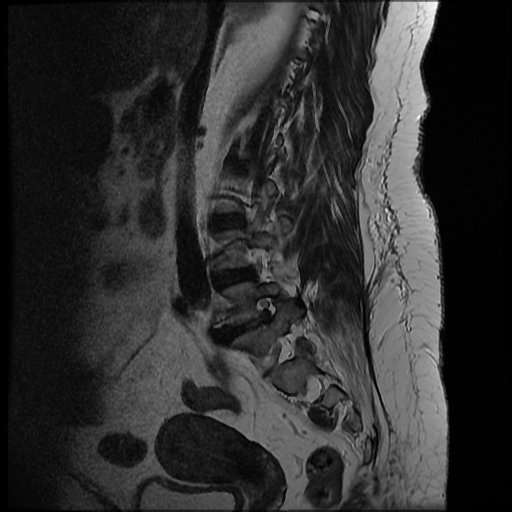RFS0: (246, 290, 295, 336)
